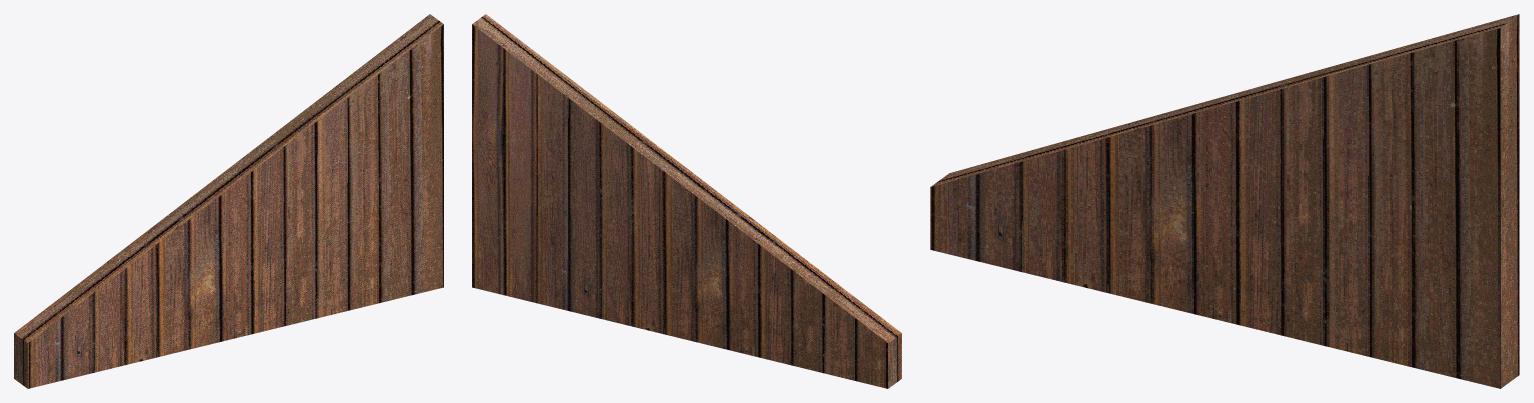
The model's file is wall-int-topfiller-3.glb.
The picture shows the model from 3 angles, left to right: view 1: azimuth 30°, elevation 25°; view 2: azimuth 150°, elevation 25°; view 3: azimuth 330°, elevation 25°; orthographic projection. The views are drawn at different scales.
Parts seen in each view (by area): view 1: wall-int-topfiller-3.001; view 2: wall-int-topfiller-3.001; view 3: wall-int-topfiller-3.001.
Boxes of the visible parts, x1,y1,x2,y2 form: wall-int-topfiller-3.001: [14, 14, 443, 388]; wall-int-topfiller-3.001: [472, 14, 901, 388]; wall-int-topfiller-3.001: [930, 14, 1519, 388].
Size of the model in its own units: 1.74 by 1.05 by 0.1.
1 material, 1 textured.
